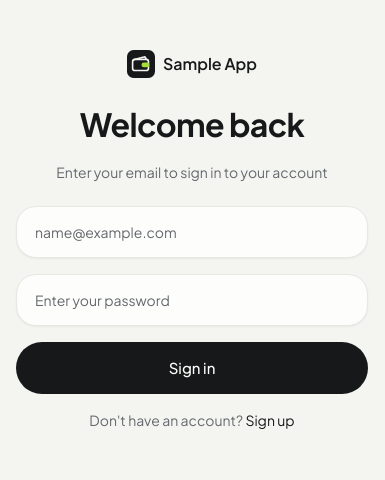
Login › displays error message when login fails
Type "test@example.com" into the field with test id "input-email" at (192, 232), box [16,206,368,258]
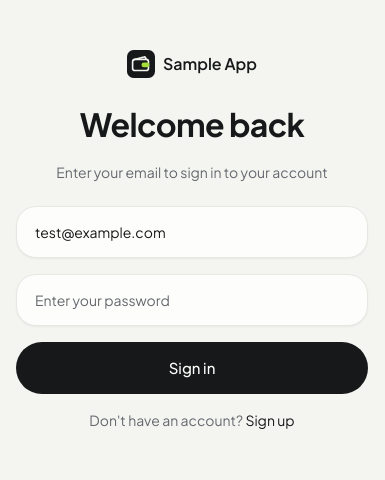
Type "wrongpassword" into the password field with test id "input-password" at (192, 300), box [16,274,368,326]
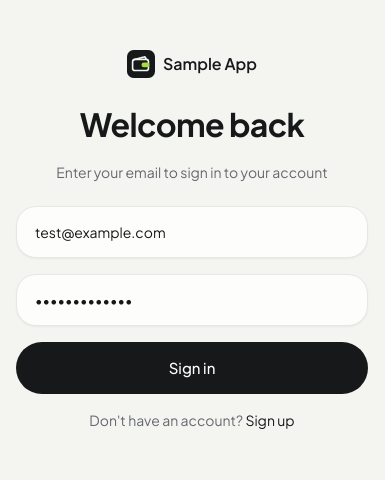
Click the button with test id "submit-button" at (192, 368), box [16,342,368,394]
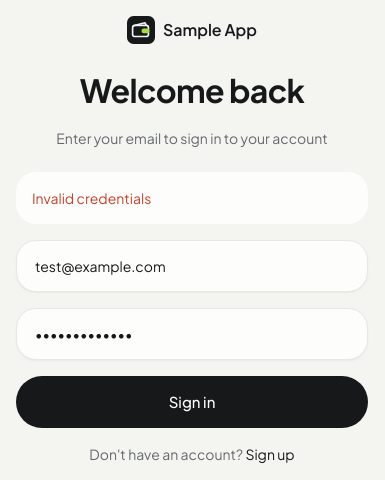
expect the text "Invalid credentials" is shown: met, box [16,172,368,224]
